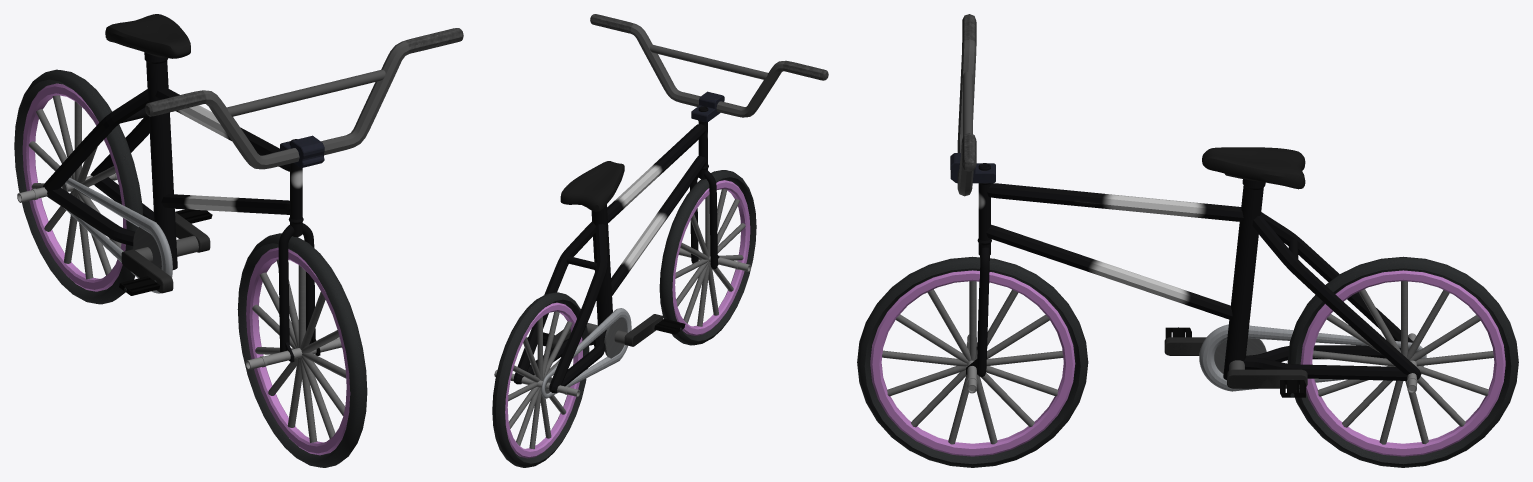
File: bmx.glb
3 renders of one model, left to right at view 1: azimuth 30°, elevation 25°; view 2: azimuth 150°, elevation 25°; view 3: azimuth 270°, elevation 25°, orthographic. The views are drawn at different scales.
Visible parts, largest first — view 1: BMX_0; view 2: BMX_0; view 3: BMX_0.
Part boxes in pixels (x1,y1,x2,y2): BMX_0: [14, 14, 463, 467]; BMX_0: [492, 14, 828, 467]; BMX_0: [857, 14, 1518, 467].
Bounding box in the file's own units: 2.24 × 2.68 × 4.23.
Materials: 1 (1 with a texture image).
